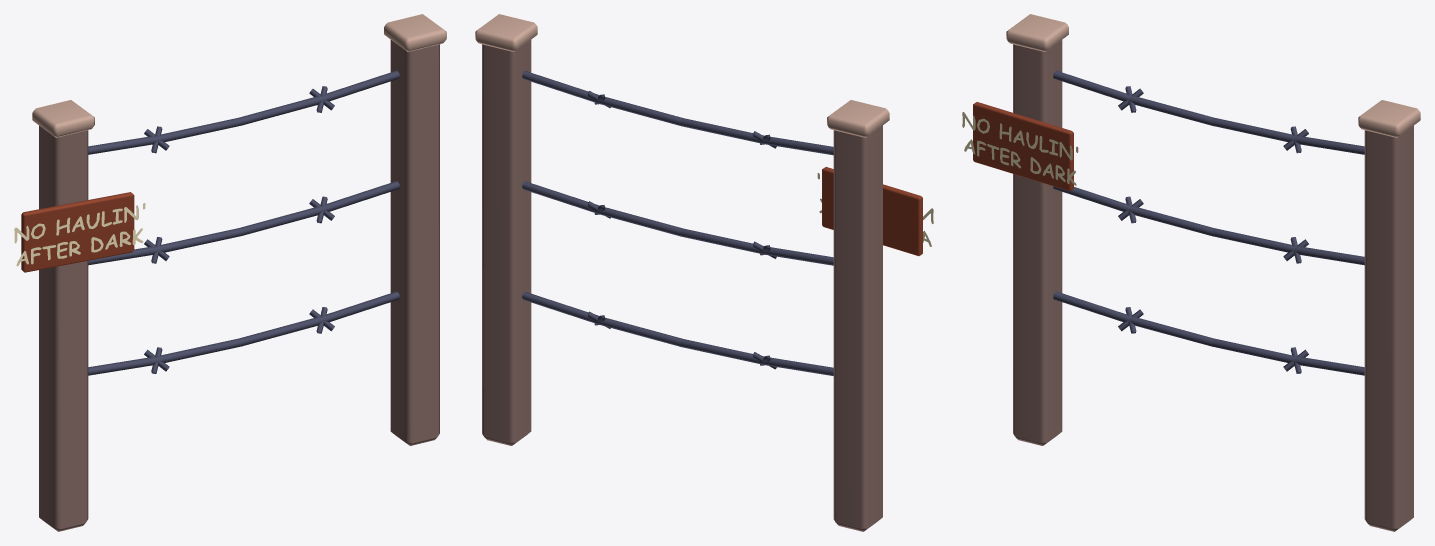
File: wire_fence.glb
3 views of the same model, side by side, from view 1: azimuth 30°, elevation 25°; view 2: azimuth 150°, elevation 25°; view 3: azimuth 330°, elevation 25° (orthographic).
Parts seen in each view (by area): view 1: Fence; view 2: Fence; view 3: Fence.
Boxes of the visible parts, box(x1,y1,x2,y2) form: Fence: box(14, 14, 446, 531); Fence: box(475, 14, 933, 531); Fence: box(962, 14, 1420, 531).
Size of the model in its own units: 1.24 by 1.12 by 0.1614.
